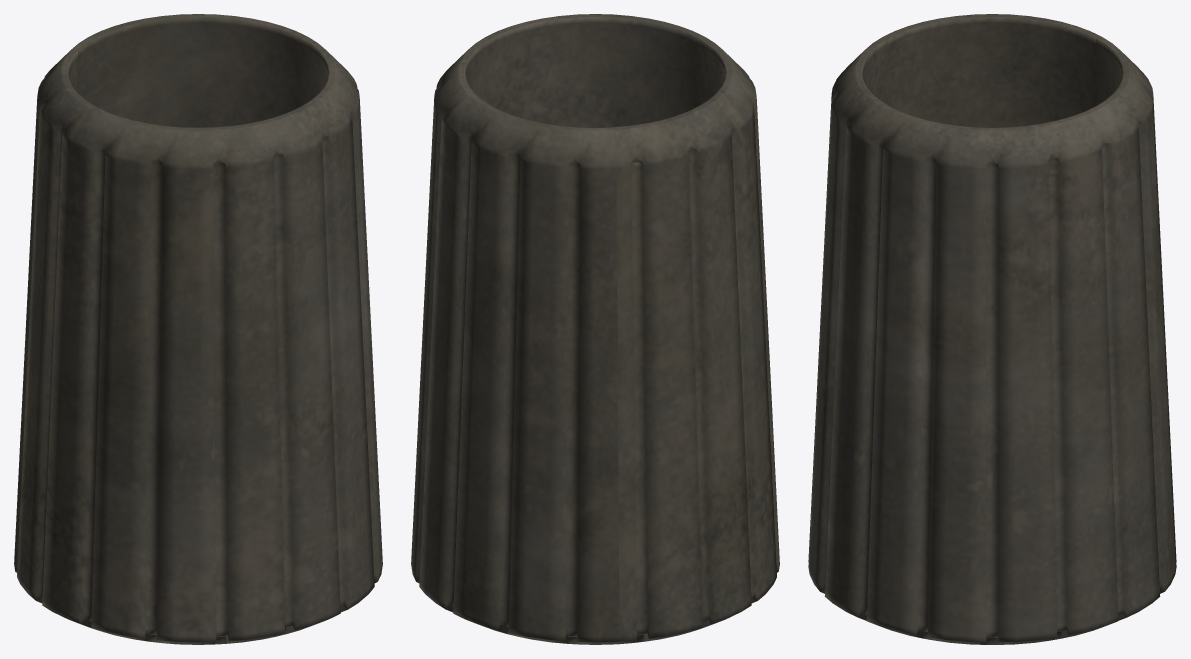
Rendered from poubelle.glb.
3 views of the same model, side by side, from view 1: azimuth 30°, elevation 25°; view 2: azimuth 150°, elevation 25°; view 3: azimuth 270°, elevation 25° (orthographic).
Parts seen in each view (by area): view 1: poubelle; view 2: poubelle; view 3: poubelle.
Part boxes in pixels (x1,y1,x2,y2): poubelle: (14,14,382,644); poubelle: (411,14,779,644); poubelle: (808,14,1176,644).
Bounding box in the file's own units: 0.6971 × 1.05 × 0.6971.
Materials: 1 (1 with a texture image).
